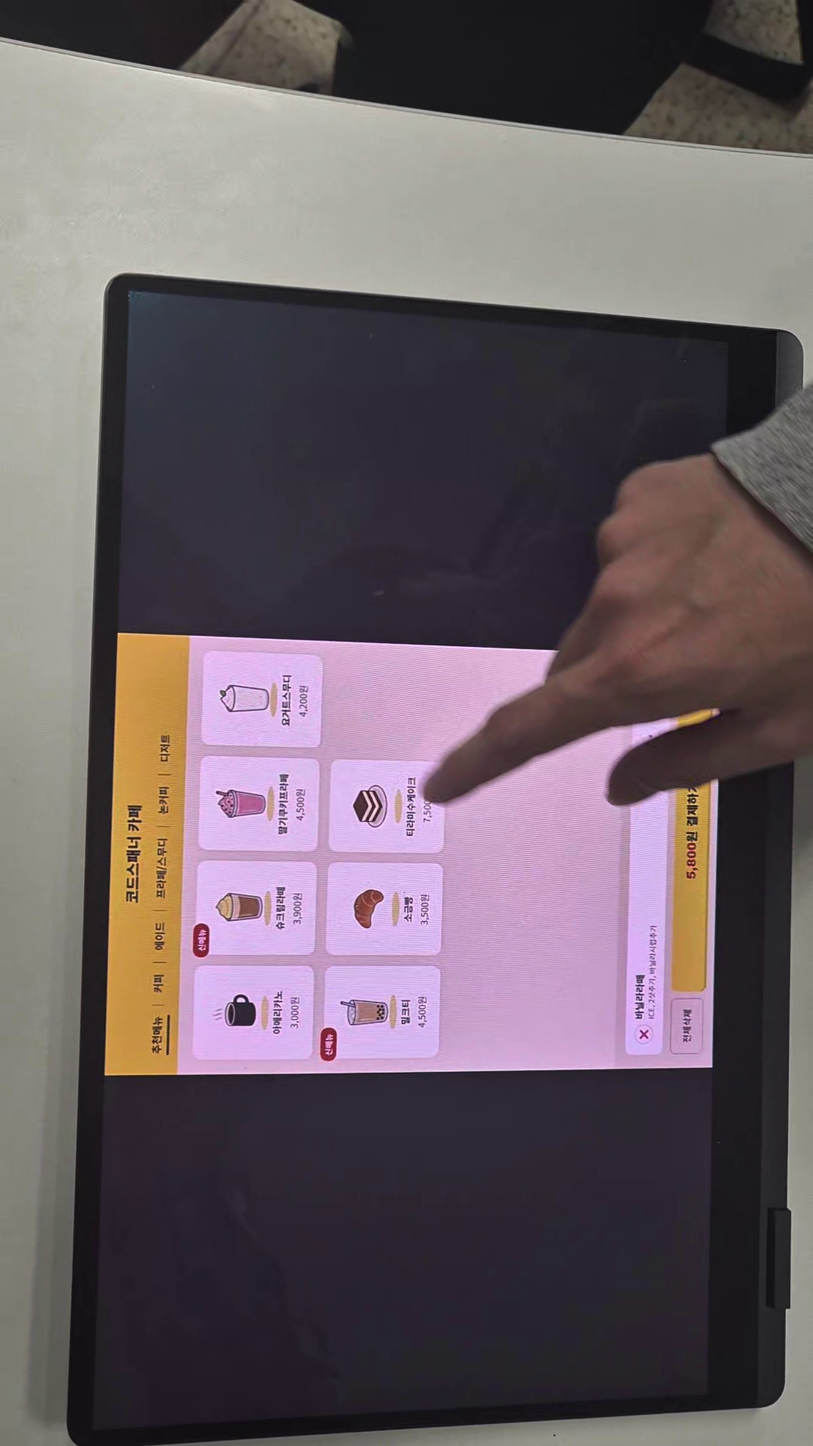action_button: (673, 680, 710, 987), (671, 995, 706, 1051)
cart_item: (628, 679, 667, 1052)
category_tab: (154, 834, 169, 903), (151, 780, 173, 820), (154, 732, 174, 770), (147, 1013, 165, 1055), (151, 920, 171, 952), (151, 969, 168, 1000)
menu_back: (200, 650, 325, 746), (200, 757, 318, 853), (327, 759, 446, 854), (197, 966, 316, 1060), (199, 859, 315, 955), (324, 964, 441, 1057), (327, 865, 443, 957)
menu_name: (274, 768, 292, 838), (279, 669, 294, 732), (271, 883, 289, 932), (405, 777, 416, 838), (401, 892, 416, 932), (399, 994, 414, 1030), (273, 989, 284, 1035)
menu_price: (293, 787, 311, 829), (416, 991, 434, 1033), (297, 678, 315, 719), (419, 787, 437, 828), (291, 887, 309, 928), (416, 891, 434, 932), (287, 992, 305, 1033)
